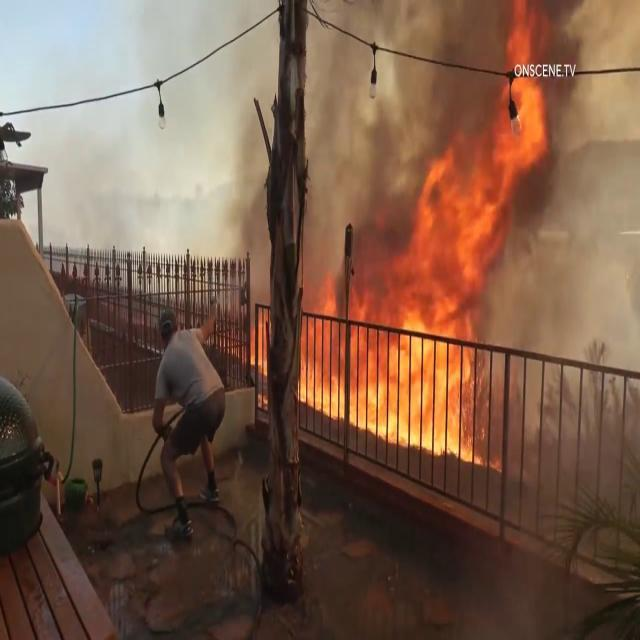Fire: (307, 207, 527, 450)
Smoke: (232, 1, 638, 302), (492, 0, 640, 463)
